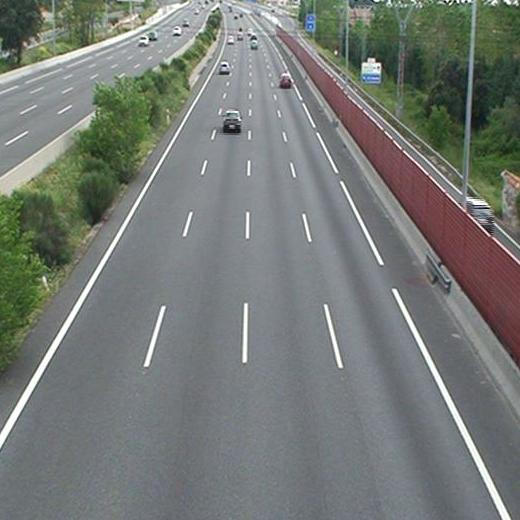car: (224, 110, 242, 129), (280, 74, 292, 87), (219, 62, 229, 74), (250, 40, 258, 50), (227, 35, 235, 45)
